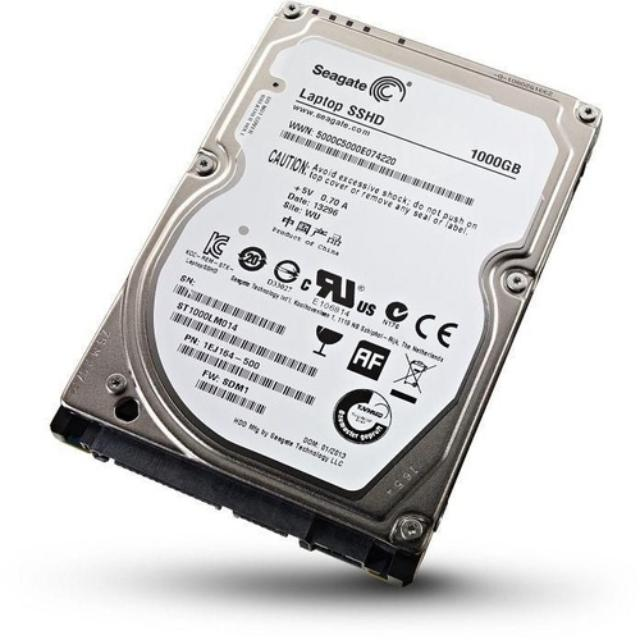HDD: (49, 3, 605, 590)
